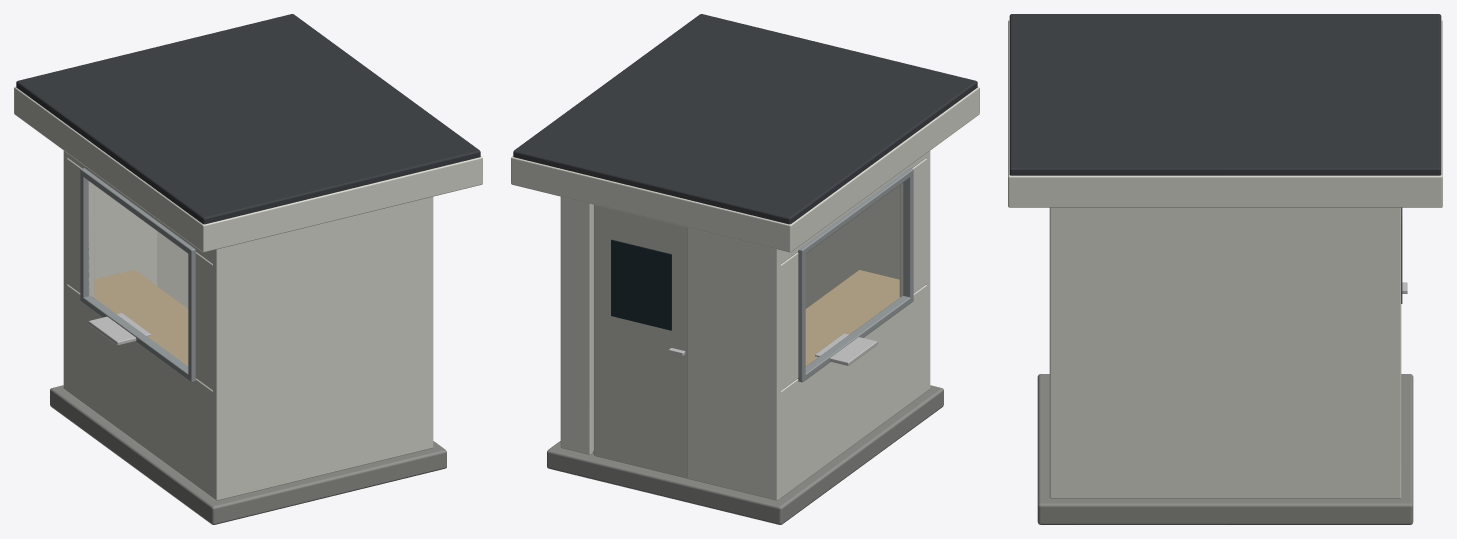
File: booth.glb
The picture shows the model from 3 angles, left to right: view 1: azimuth 30°, elevation 25°; view 2: azimuth 150°, elevation 25°; view 3: azimuth 270°, elevation 25°; orthographic projection. The views are drawn at different scales.
Parts seen in each view (by area): view 1: booth; view 2: booth; view 3: booth.
Part boxes in pixels (bbox=[...]): booth: bbox=[14, 14, 482, 524]; booth: bbox=[511, 14, 979, 524]; booth: bbox=[1008, 14, 1442, 524].
Bounding box in the file's own units: 2.32 × 2.55 × 2.72.
